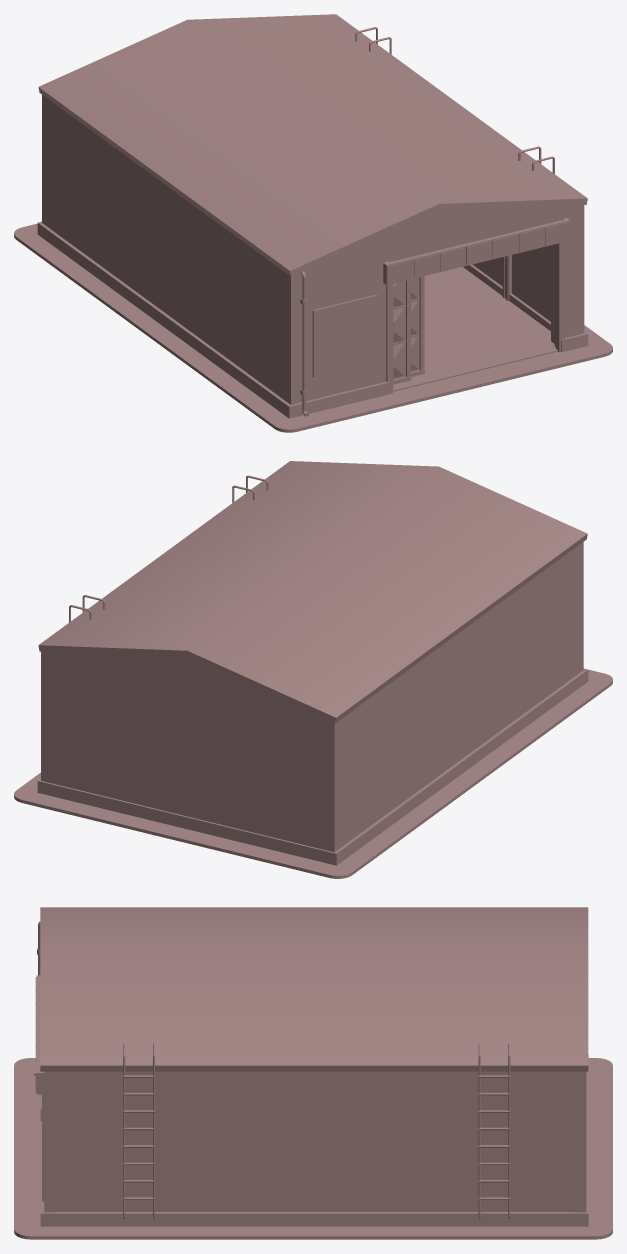
File: Stage_Building.fbx
The picture shows the model from 3 angles, top to bottom: view 1: azimuth 30°, elevation 25°; view 2: azimuth 150°, elevation 25°; view 3: azimuth 270°, elevation 25°; orthographic projection. The views are drawn at different scales.
Parts seen in each view (by area): view 1: Stage_Roof, Stage_Base, Wall (×2), Stage_Gate1, Stage_Gate2; view 2: Stage_Base, Stage_Roof; view 3: Stage_Roof, Wall (×2), Stage_Base, Ladder_External2, Ladder_External.
Part boxes in pixels (x1,y1,x2,y2): Stage_Roof: (38, 14, 587, 276); Stage_Base: (14, 95, 612, 432); Wall (×2): (300, 205, 588, 417); Stage_Gate1: (393, 279, 411, 384); Stage_Gate2: (411, 276, 424, 376); Stage_Base: (14, 542, 612, 878); Stage_Roof: (38, 461, 587, 723); Stage_Roof: (40, 907, 588, 1071); Wall (×2): (34, 921, 582, 1226); Stage_Base: (14, 1055, 612, 1239); Ladder_External2: (478, 1043, 510, 1218); Ladder_External: (123, 1043, 154, 1218).
Size of the model in its own units: 1040 by 538 by 1476.
